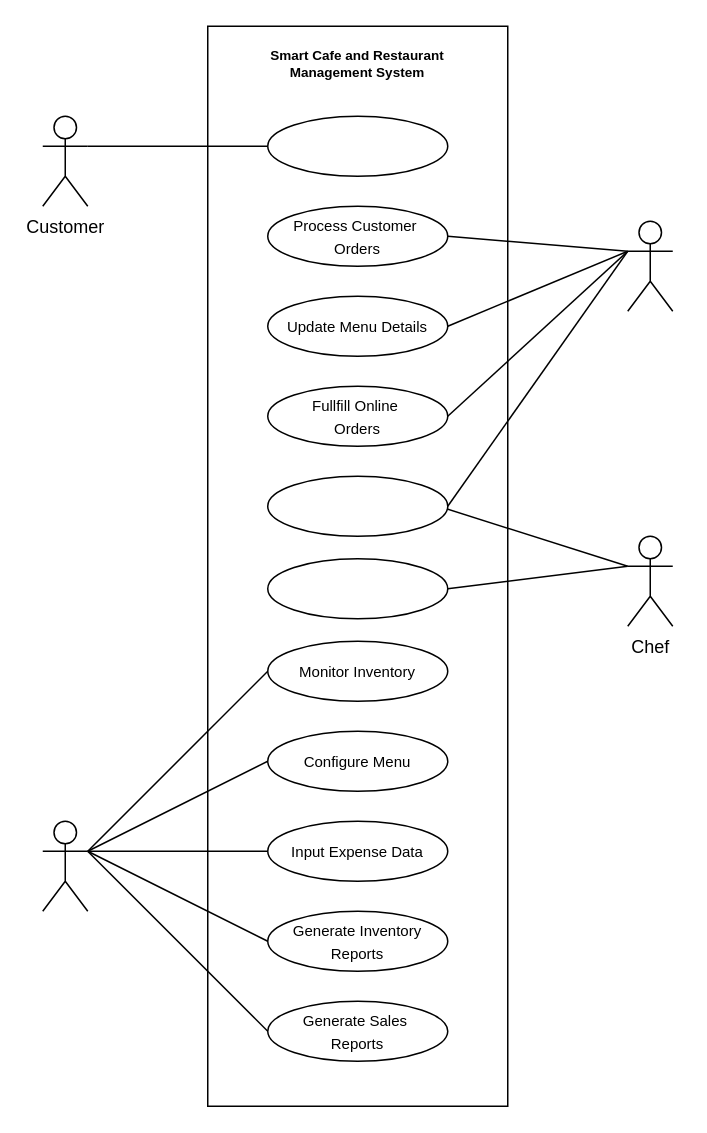
The diagram is 707 pixels wide and 1133 high, and some of its shapes have lost their labels. Each missing label, with the box of its shape:
Cashier: (626, 220, 673, 311)
Manager: (41, 820, 88, 911)
Place Order: (266, 115, 448, 176)
Prepare Food Order: (266, 557, 448, 619)
View Inventory Levels: (266, 475, 448, 536)
